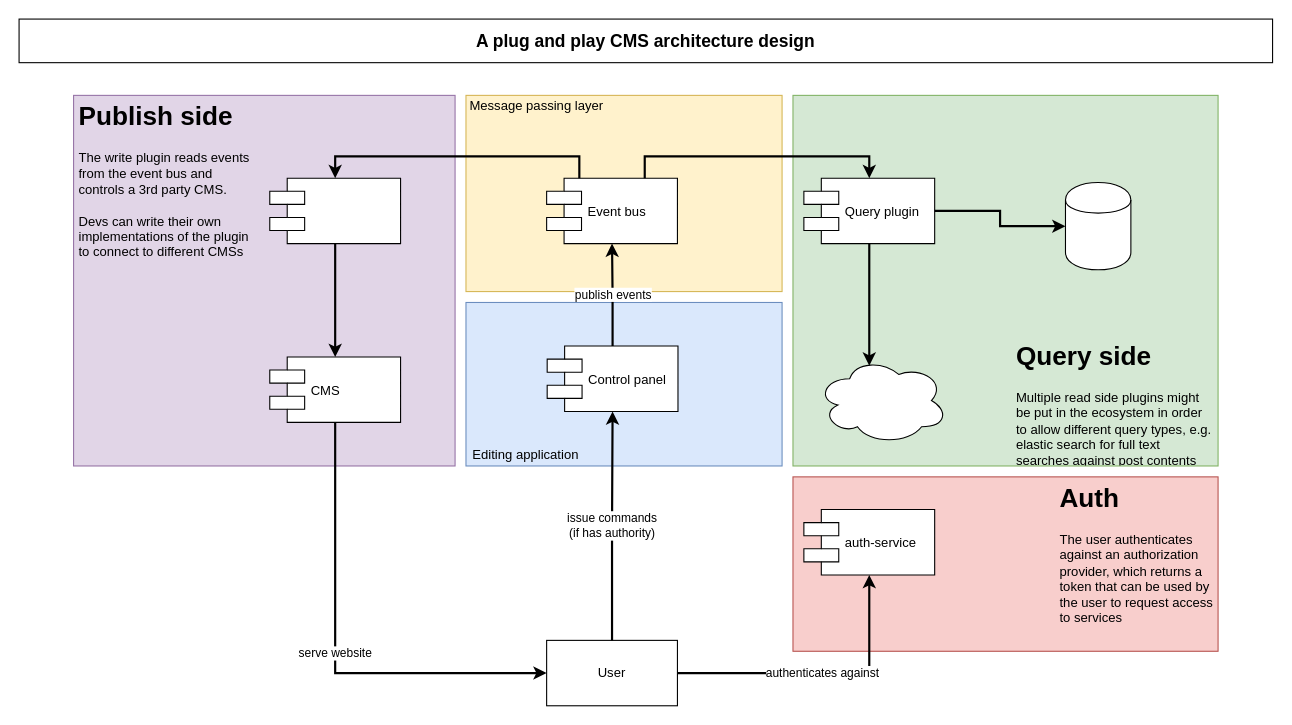
Some shapes in this 1292 by 725 pixel diagram are drawn without their labels. The shapes that lost their labels are listed below. From the top down, each one's box as (x1, y1, x2, y2) in pixels, then its label:
(269, 177, 401, 244): cms integration (write plugin)
(1064, 181, 1131, 270): full text search
(816, 356, 948, 444): REST API
